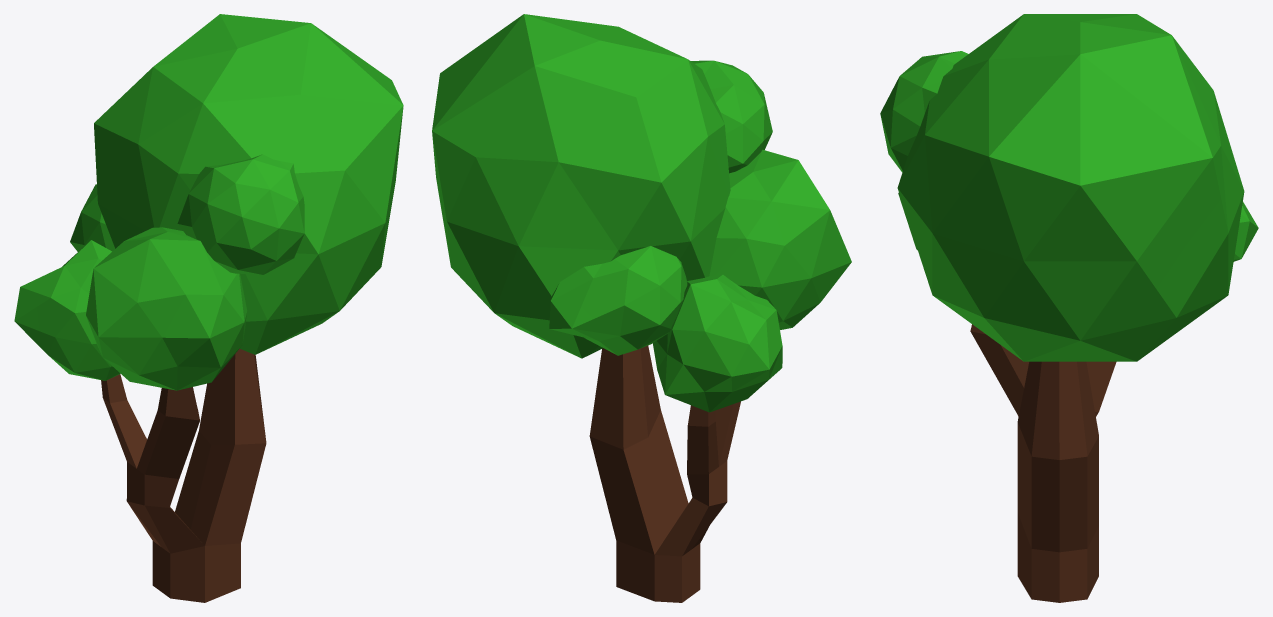
The model's file is LowPolyTree03_v.1.5.fbx.
The picture shows the model from 3 angles, left to right: view 1: azimuth 30°, elevation 25°; view 2: azimuth 150°, elevation 25°; view 3: azimuth 270°, elevation 25°; orthographic projection. The views are drawn at different scales.
Parts seen in each view (by area): view 1: Cube; view 2: Cube; view 3: Cube.
Part boxes in pixels (box(x1,y1,x2,y2)): Cube: box(14, 14, 403, 602); Cube: box(432, 14, 851, 602); Cube: box(880, 14, 1258, 602).
Size of the model in its own units: 1624 by 2353 by 1355.
